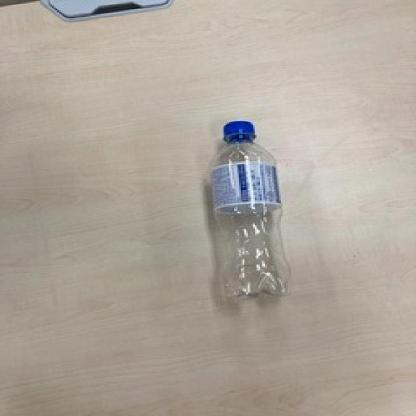Plastic Bottle: (206, 119, 288, 300)
